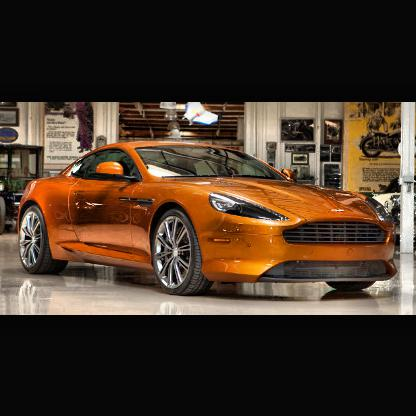Aston Martin Virage Coupe 2012: (18, 138, 403, 300)
